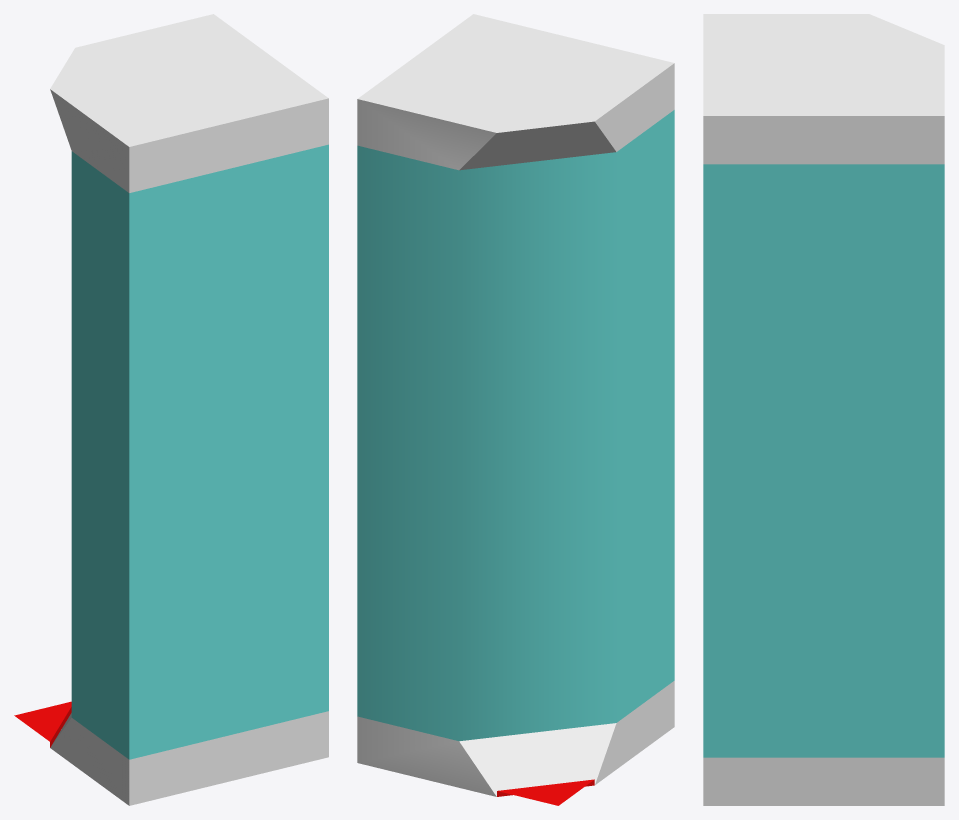
File: Wall-ClosedTurnTall.fbx
The picture shows the model from 3 angles, left to right: view 1: azimuth 30°, elevation 25°; view 2: azimuth 150°, elevation 25°; view 3: azimuth 270°, elevation 25°; orthographic projection. The views are drawn at different scales.
Parts seen in each view (by area): view 1: ClosedTurnTall; view 2: ClosedTurnTall; view 3: ClosedTurnTall.
Boxes of the visible parts, x1,y1,x2,y2 form: ClosedTurnTall: [14, 14, 328, 805]; ClosedTurnTall: [357, 14, 674, 805]; ClosedTurnTall: [703, 14, 944, 805].
Size of the model in its own units: 78.74 by 248 by 78.75.
